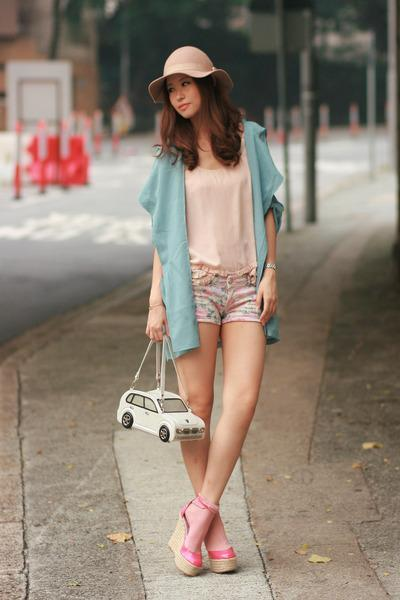bag: (122, 348, 204, 442)
hat: (160, 47, 220, 77)
jacket: (140, 119, 289, 355)
shirt: (186, 157, 275, 275)
shoe: (168, 492, 236, 577)
shorts: (188, 260, 266, 326)
